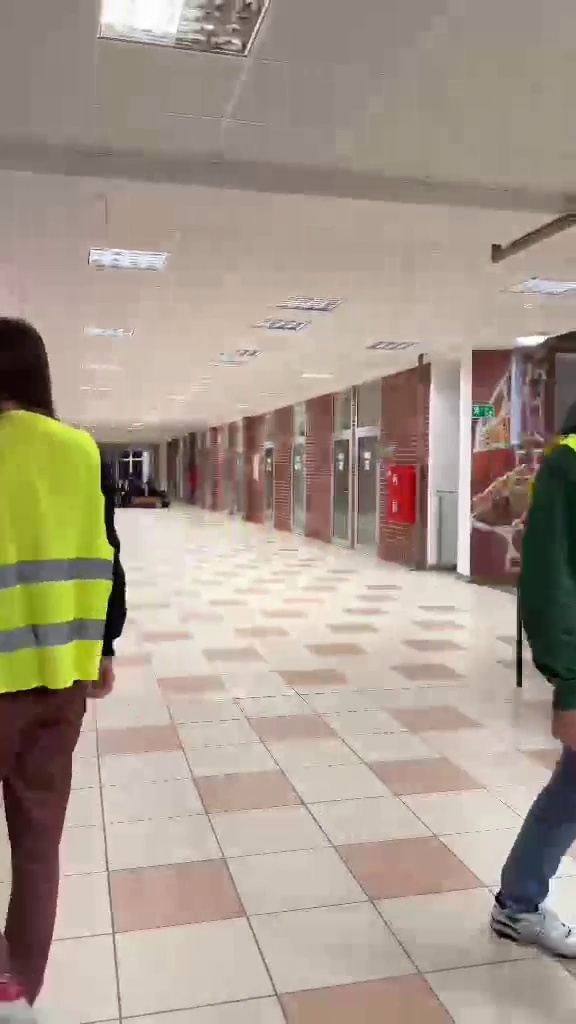vest: (0, 323, 131, 978)
